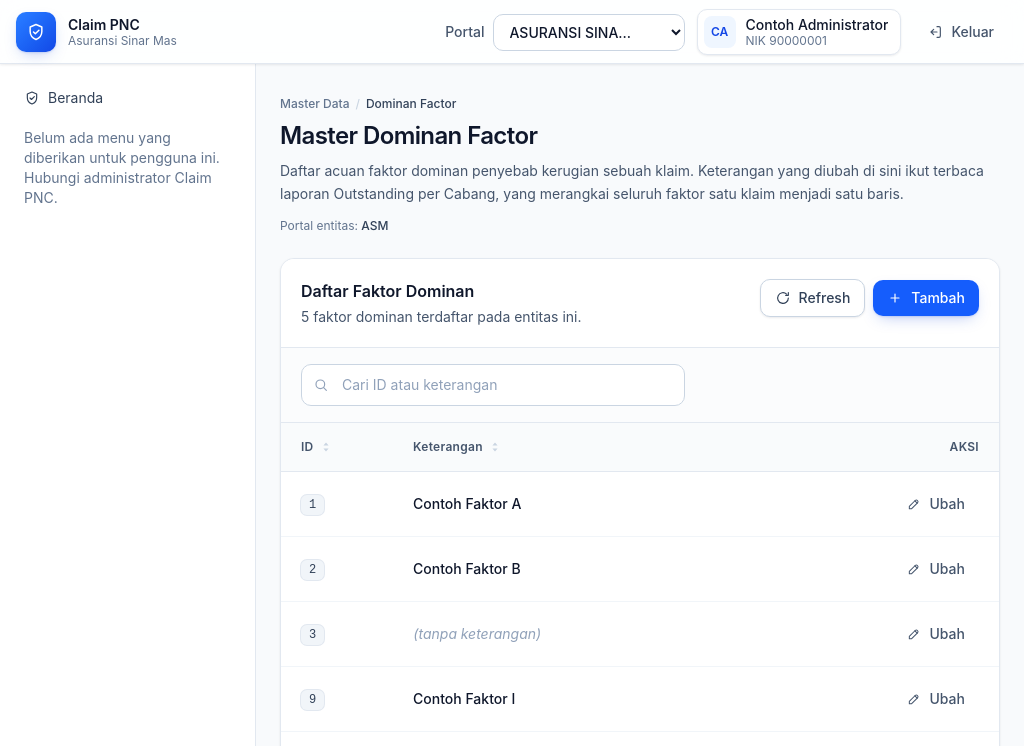
Test: daftar › mencari juga pada kolom ID, bukan hanya keterangan
Expected: the text "Contoh Faktor A" is shown, top-left (413, 494), bottom-right (521, 512)
Type "10" into the search field at [493, 384], box top-left (301, 364), bottom-right (685, 406)
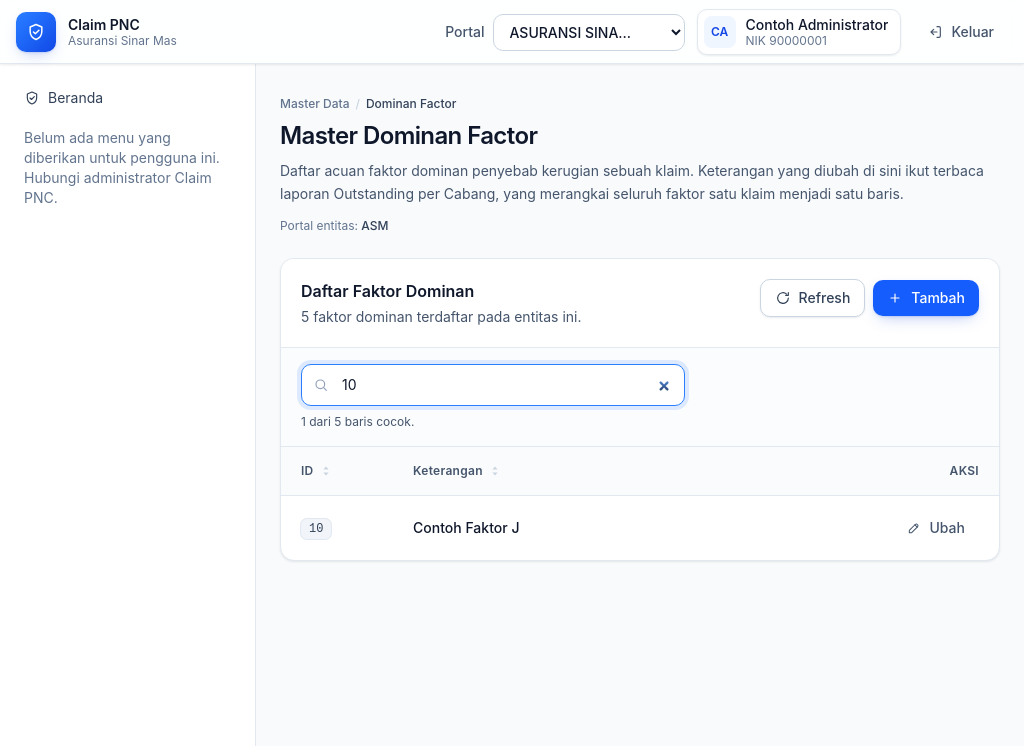
Expected: the text "Contoh Faktor J" is shown, top-left (413, 518), bottom-right (520, 536)
Expected: the text "Contoh Faktor B" is gone
